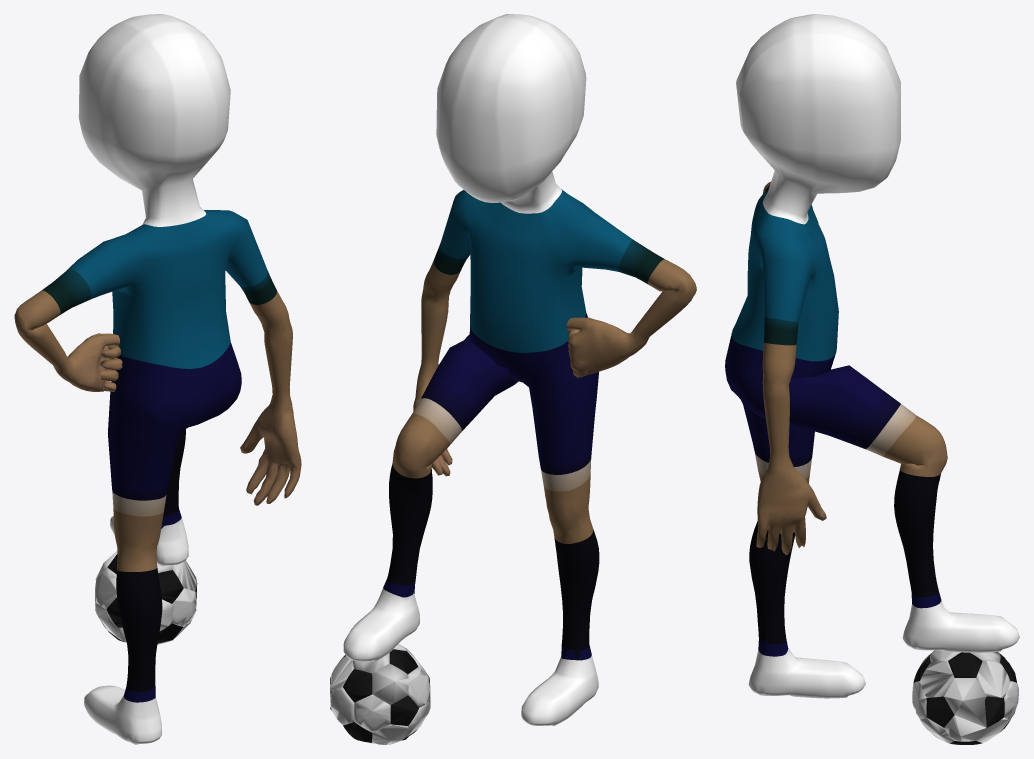
Rendered from awu 7.fbx.
3 renders of one model, left to right at view 1: azimuth 30°, elevation 25°; view 2: azimuth 150°, elevation 25°; view 3: azimuth 270°, elevation 25°, orthographic.
Visible parts, largest first — view 1: Character1, Football_LowPoly:Mesh; view 2: Character1, Football_LowPoly:Mesh; view 3: Character1, Football_LowPoly:Mesh.
Part boxes in pixels (x1,y1,x2,y2): Character1: (14, 14, 301, 744); Football_LowPoly:Mesh: (95, 551, 197, 644); Character1: (343, 14, 696, 725); Football_LowPoly:Mesh: (330, 644, 430, 744); Character1: (725, 14, 1019, 698); Football_LowPoly:Mesh: (912, 650, 1018, 744).
Size of the model in its own units: 1.4 by 3.33 by 1.29.
